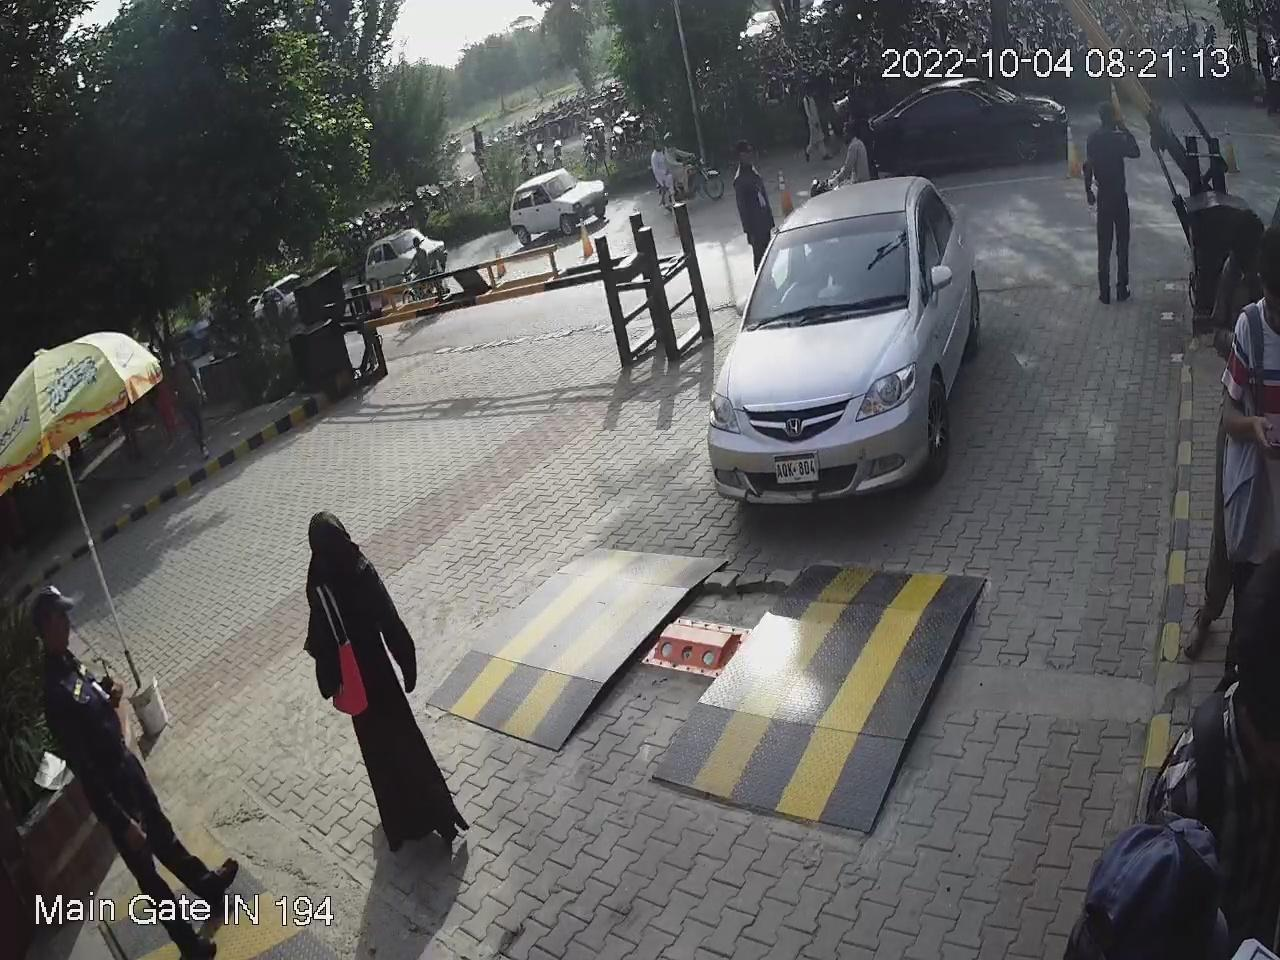windshield: (738, 200, 920, 343)
